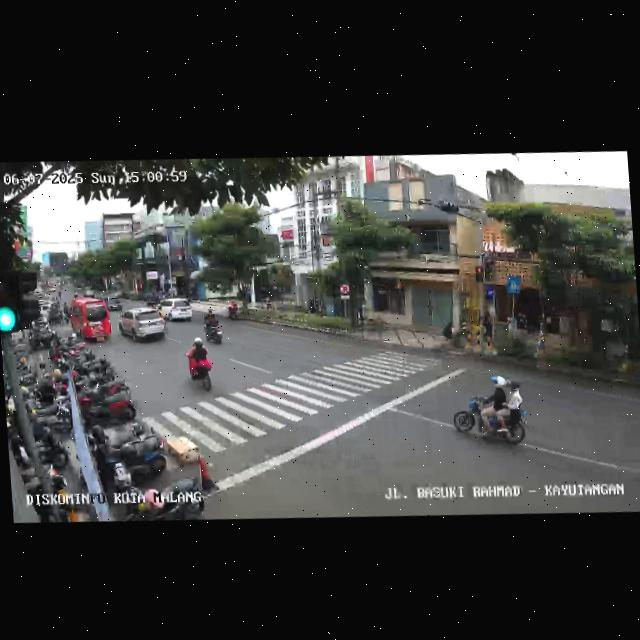car: (66, 295, 112, 346), (118, 304, 169, 348), (159, 295, 194, 325)
motorcycle: (458, 375, 530, 453), (184, 337, 214, 393), (200, 310, 224, 345), (227, 299, 240, 321)
